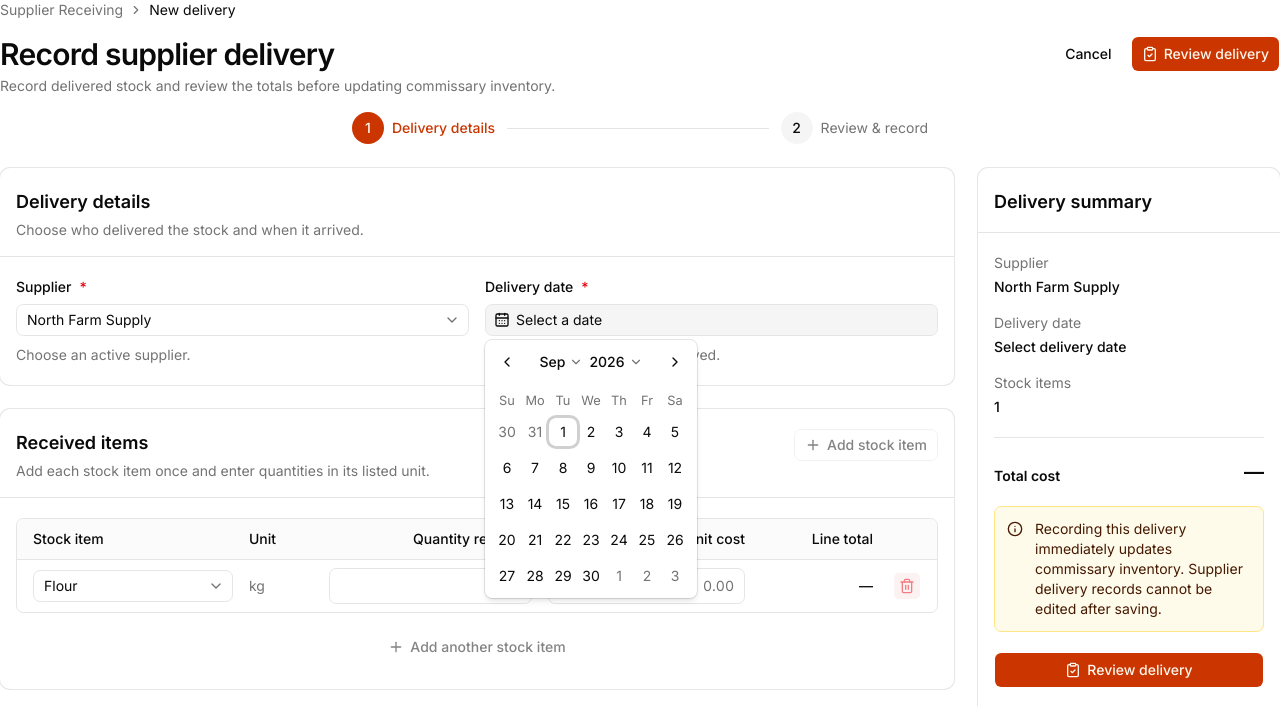
Test: supplier receipt create page › reviews and records the delivery without losing retry behavior
Earlier steps of the test are not shown.
Later steps or results of the test are not shown.
Click the button named "September 24".
click(619, 540)  # box top-left (605, 526), bottom-right (633, 554)
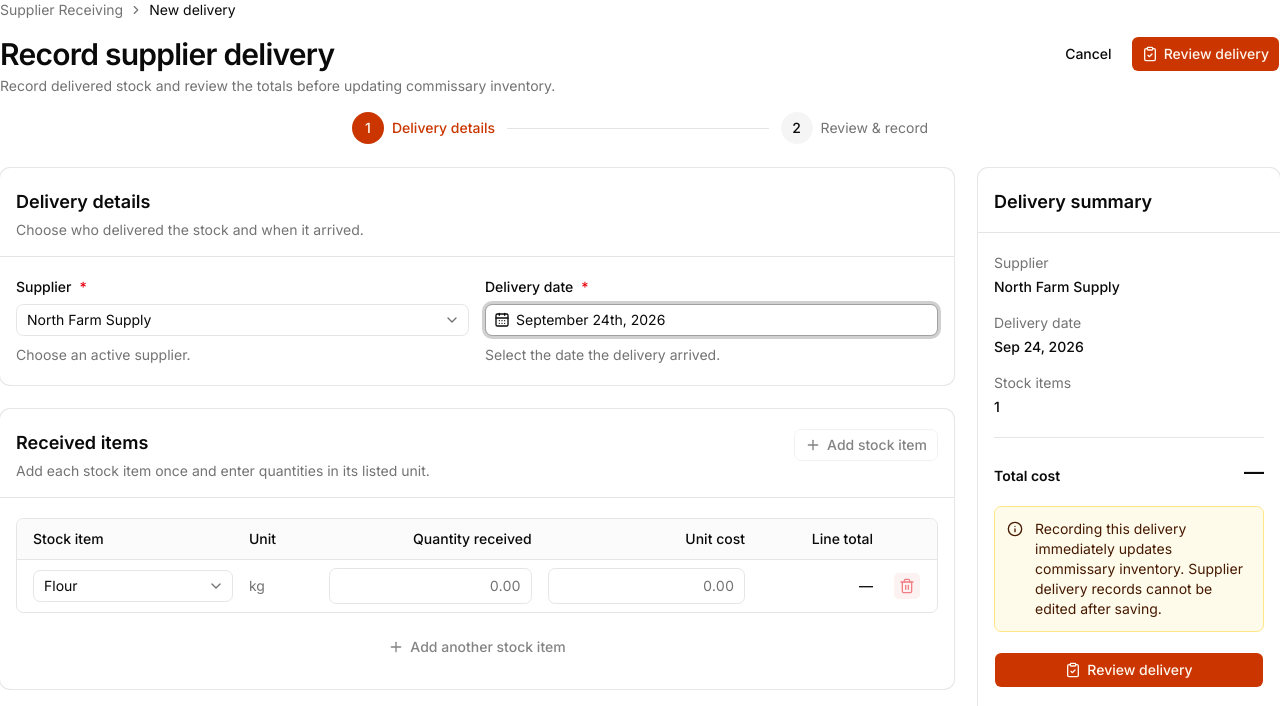
Type "2" into the field named "Quantity received for line 1".
click(430, 586); type("2")  # box top-left (329, 568), bottom-right (532, 604)
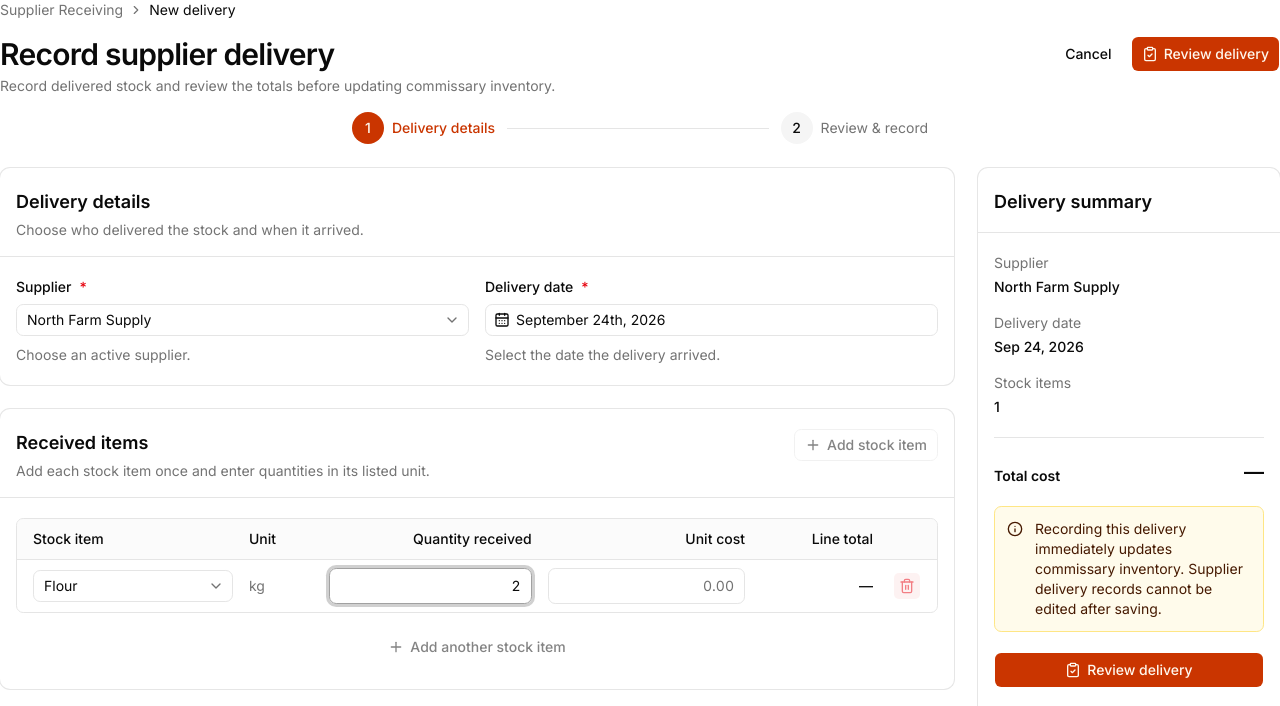
Type "5.25" into the field named "Unit cost for line 1".
click(646, 586); type("5.25")  # box top-left (548, 568), bottom-right (745, 604)
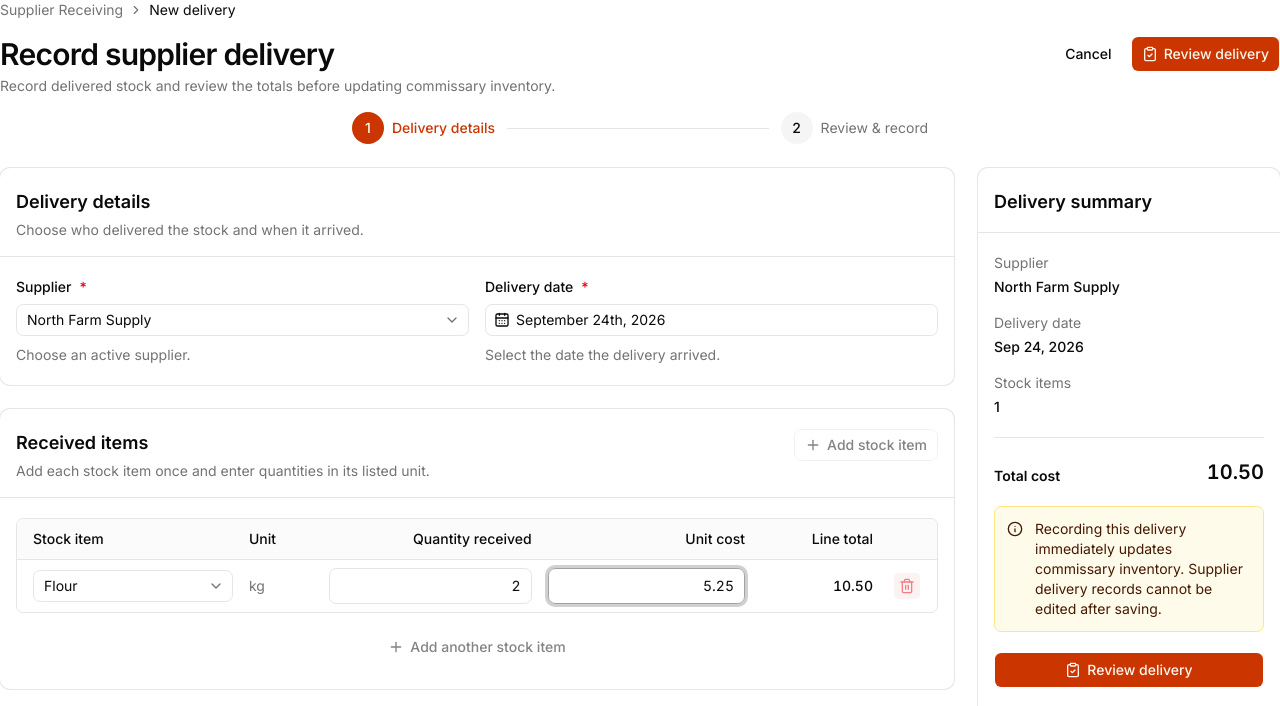
Click the button "Review delivery" in the row of "Record supplier delivery".
click(1205, 54)  # box top-left (1131, 36), bottom-right (1279, 72)
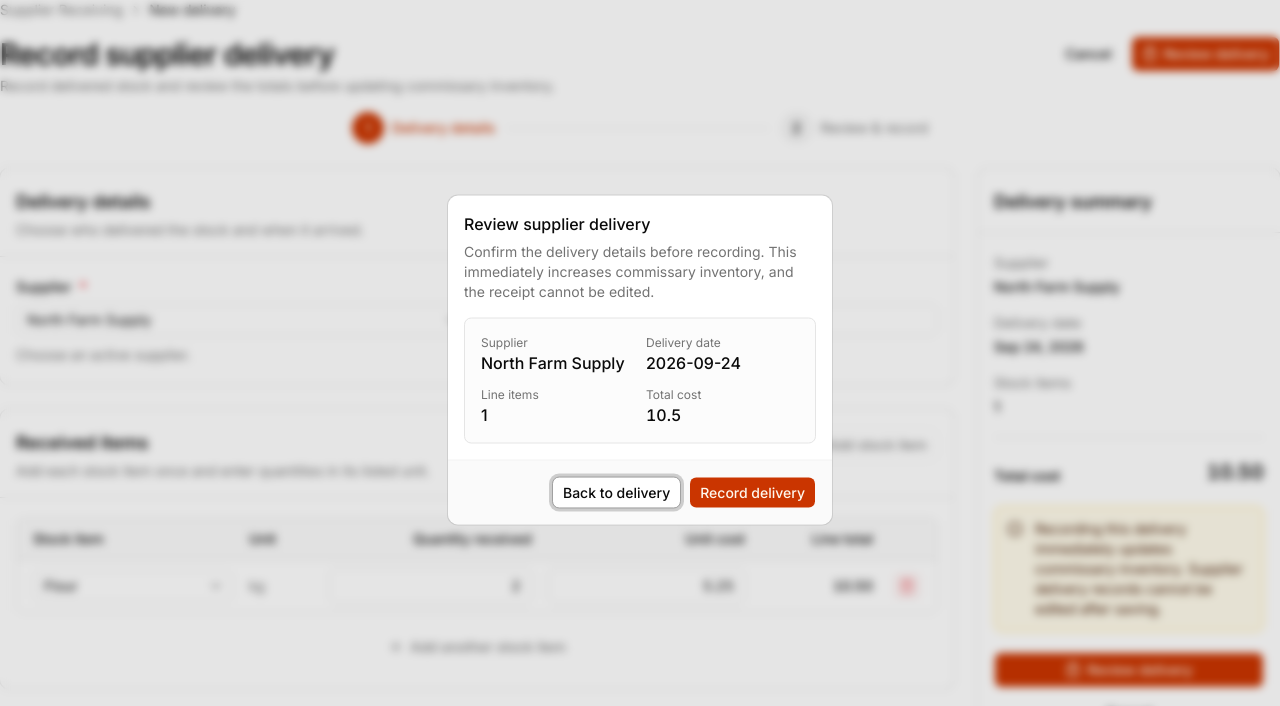
expect the dialog "Review supplier delivery" is shown: met, box top-left (448, 196), bottom-right (832, 524)
